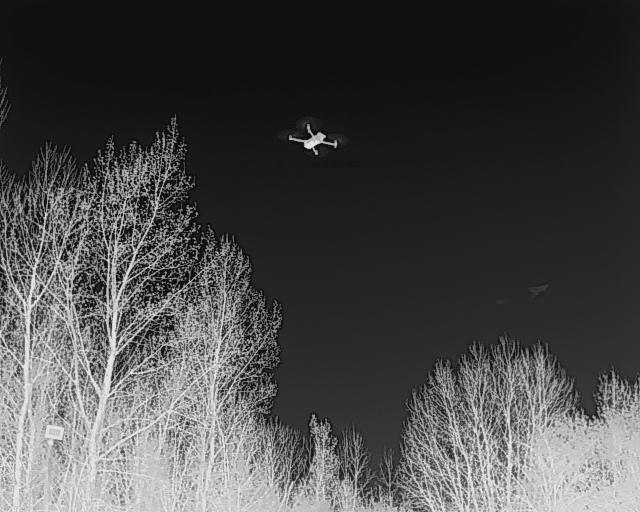drone: (284, 120, 344, 165)
